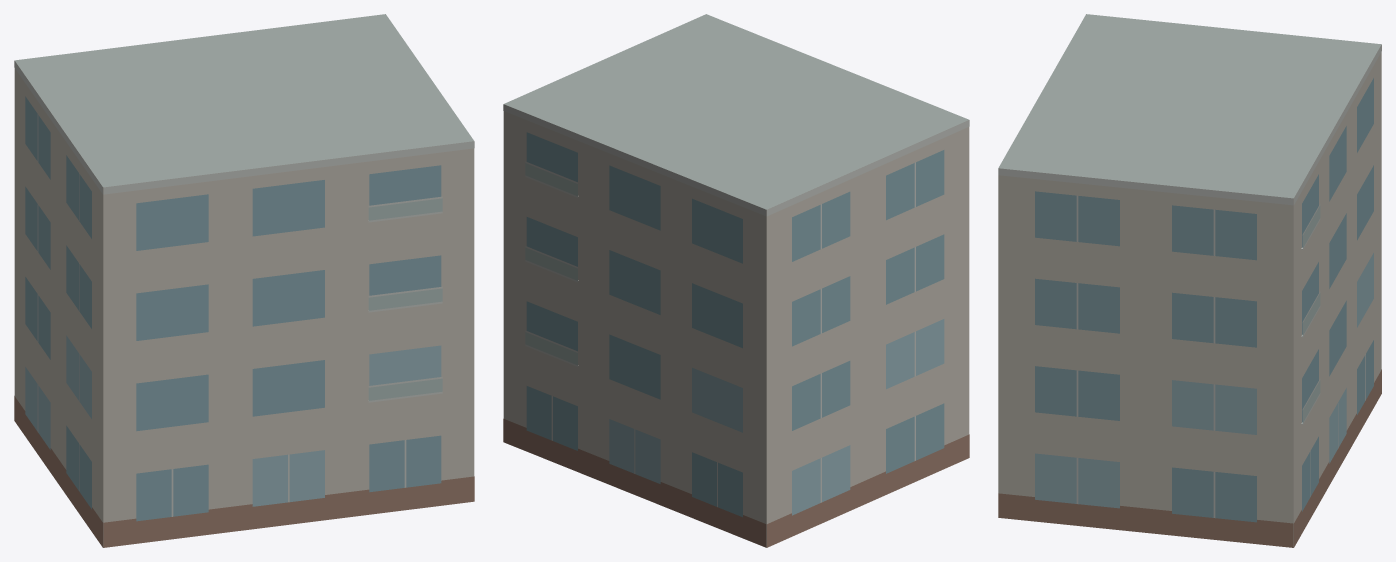
Rendered from residential-fe9641f5-e6ea-4114-876d-4171f61e34f7.glb.
3 renders of one model, left to right at view 1: azimuth 30°, elevation 25°; view 2: azimuth 150°, elevation 25°; view 3: azimuth 270°, elevation 25°, orthographic. The views are drawn at different scales.
Visible parts, largest first — view 1: residential-fe9641f5-e6ea-4114-876d-4171f61e34f7.tmp; view 2: residential-fe9641f5-e6ea-4114-876d-4171f61e34f7.tmp; view 3: residential-fe9641f5-e6ea-4114-876d-4171f61e34f7.tmp.
Part boxes in pixels (x1,y1,x2,y2): residential-fe9641f5-e6ea-4114-876d-4171f61e34f7.tmp: (14, 14, 474, 547); residential-fe9641f5-e6ea-4114-876d-4171f61e34f7.tmp: (503, 14, 969, 547); residential-fe9641f5-e6ea-4114-876d-4171f61e34f7.tmp: (998, 14, 1381, 547).
Size of the model in its own units: 13.82 by 12.2 by 12.15.
